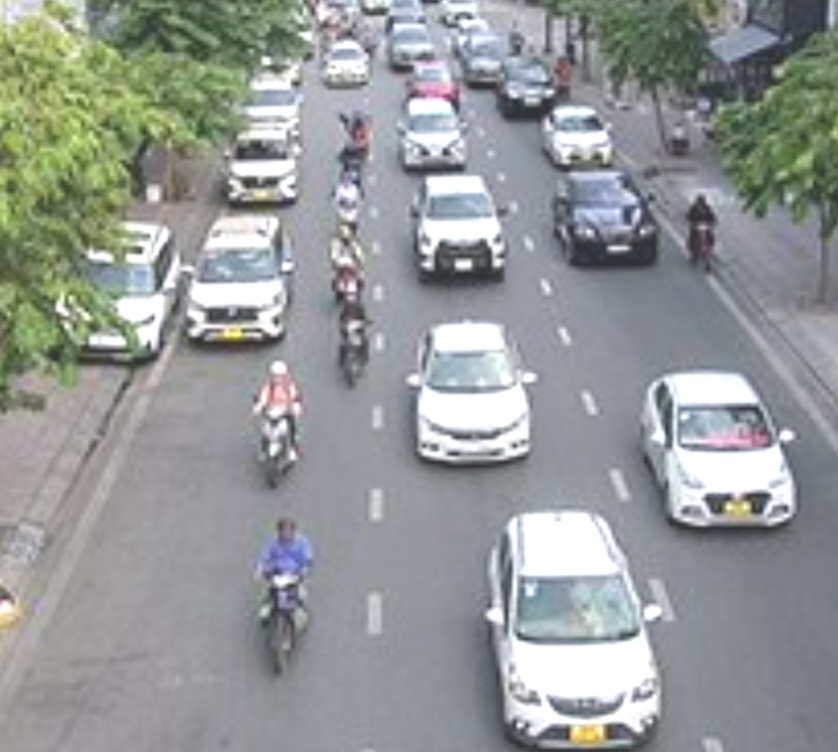car: (490, 509, 656, 748), (642, 366, 798, 530), (408, 322, 536, 463), (181, 211, 292, 346), (553, 171, 663, 271), (413, 174, 508, 281), (223, 131, 300, 203), (397, 102, 469, 171), (542, 105, 613, 169), (235, 78, 305, 133), (499, 55, 554, 116), (406, 61, 462, 106), (321, 43, 372, 91), (387, 23, 431, 66)
